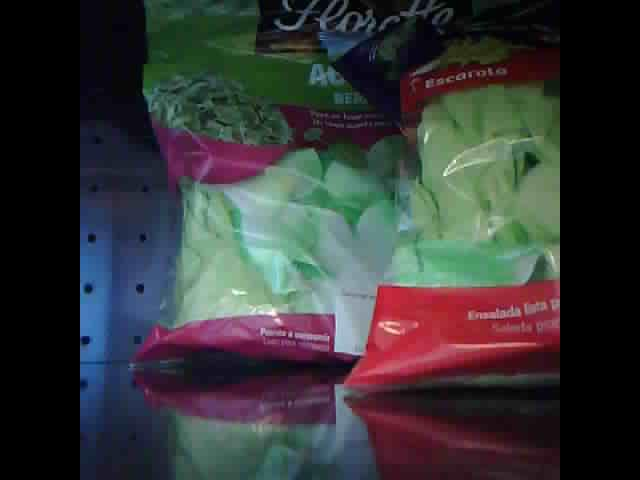florette: (130, 1, 457, 371), (340, 19, 559, 392)
